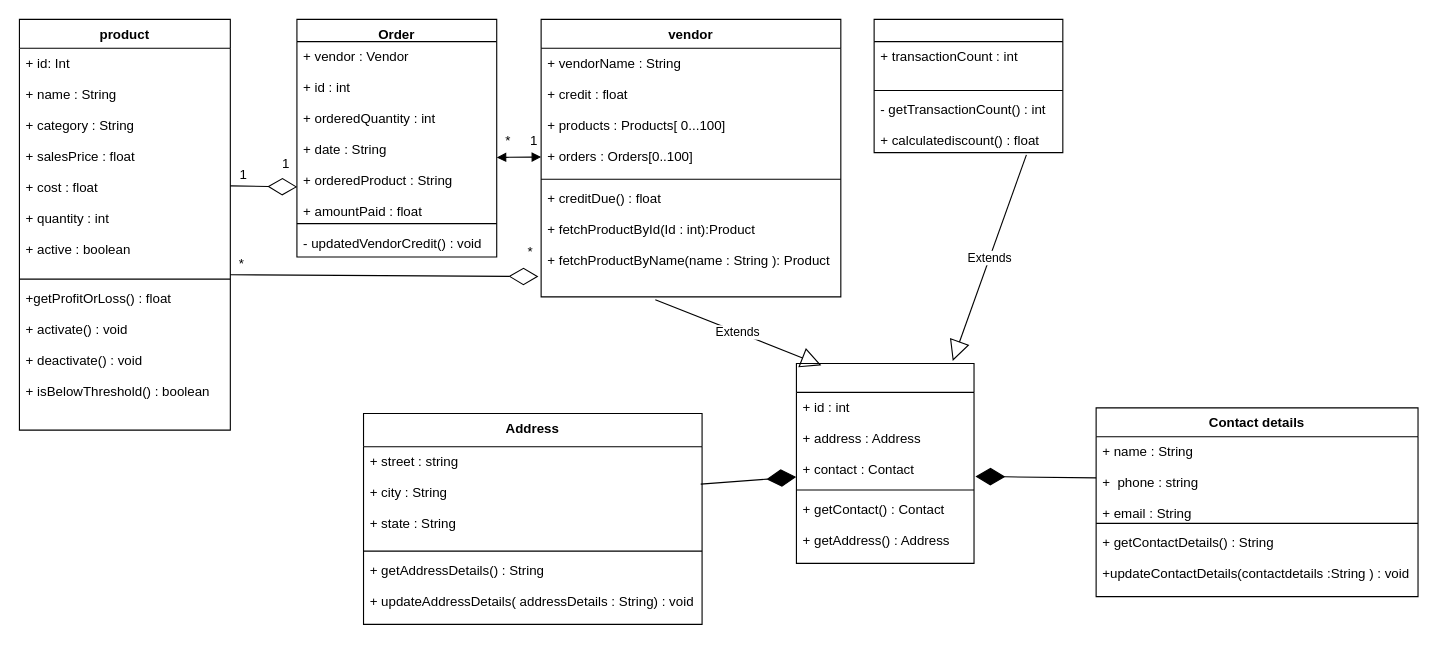
Some shapes in this 1437 by 647 pixel diagram are drawn without their labels. Each missing label, with the box of its shape:
B.P: (795, 362, 974, 563)
Customer: (873, 18, 1063, 153)
